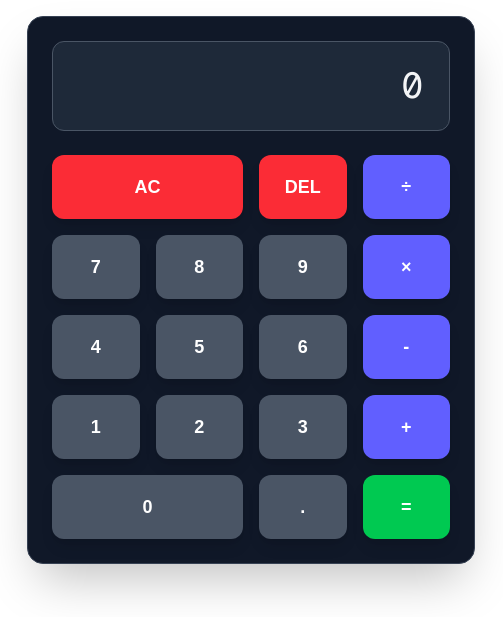
Test: Calculator › can input numbers
Click the button "1" at x=96, y=427, box x1=52 y1=395 x2=140 y2=459
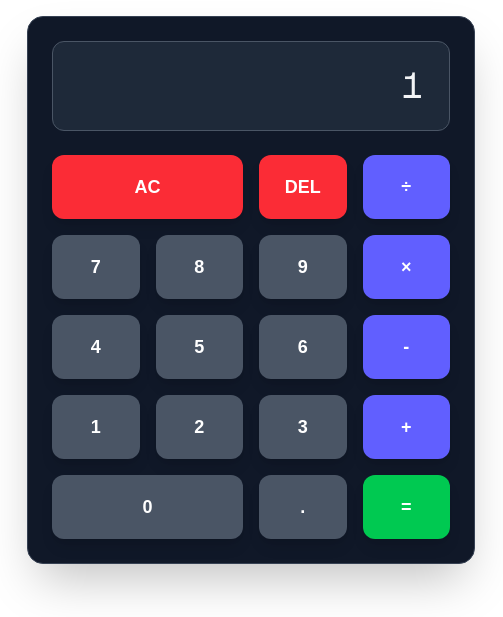
Click the button "2" at x=199, y=427, box x1=156 y1=395 x2=243 y2=459
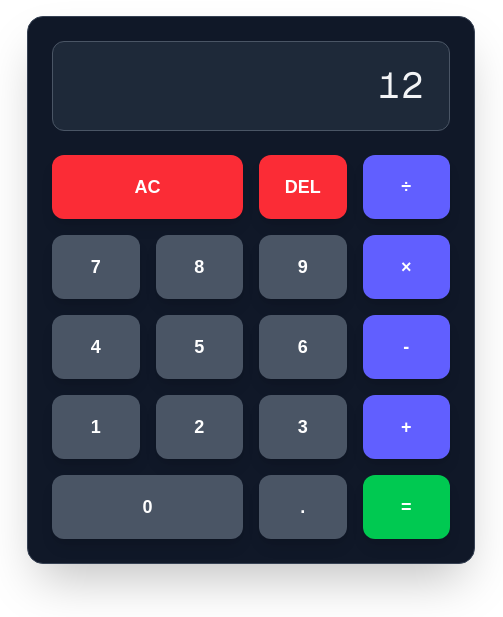
Click the button "3" at x=303, y=427, box x1=259 y1=395 x2=346 y2=459
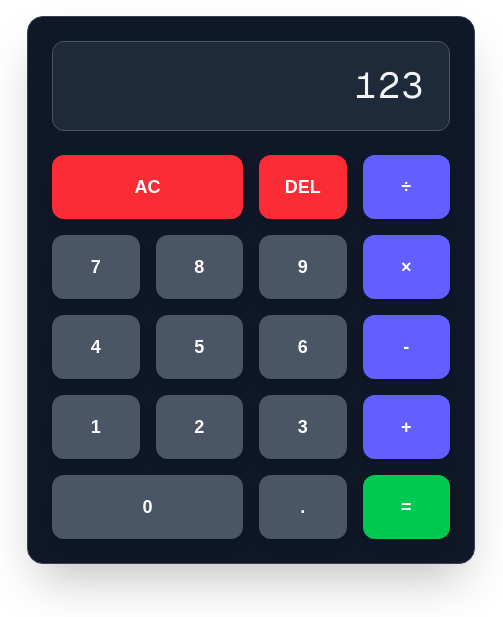
Check: the text "123" is shown, box x1=355 y1=62 x2=425 y2=109
